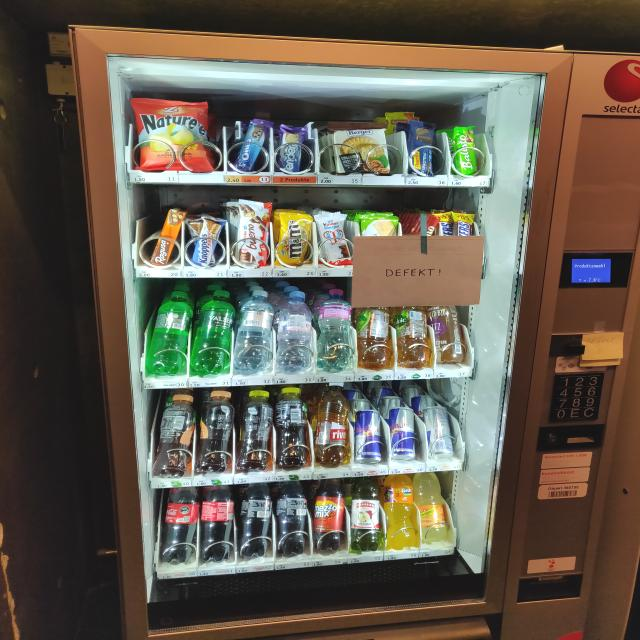balisto_muesli__37g__5000159418546: (451, 123, 484, 177)
berger_nusstoertli____: (328, 121, 389, 176)
bueno___43__4008400320328: (233, 198, 275, 268)
coke__flasche_50__54491472: (161, 487, 202, 562), (202, 485, 238, 561)
coke_zero_flasche_50__5449000131836: (237, 482, 277, 556), (277, 482, 309, 556)
evian___50__3068320353500: (278, 289, 318, 373)
fanta___50__40822938: (383, 473, 415, 549)
fuse_lemon__50__5449000235947: (235, 387, 276, 471), (275, 385, 312, 468)
fuse_peach__50__5449000236623: (153, 393, 196, 479), (195, 389, 236, 473)
knoppers_riegel____4035800488808: (190, 214, 227, 266)
mezzomix___50__54490840: (310, 477, 349, 551)
milka_oreo_riegel_37_1_7622210704740: (232, 119, 272, 173)
milka_tender____: (277, 120, 307, 174)
mnms_gelb__45__40111445: (274, 210, 315, 266)
powerbar_proteinplusschoko__55__4029679520028: (409, 122, 440, 179)
ragusa___50__76401121: (143, 208, 185, 270)
ramseier_jusdepomme__50__7610057001078: (353, 479, 381, 552)
redbull___33__90162909: (389, 408, 416, 459), (423, 407, 451, 455), (358, 411, 382, 463)
rivella_rot__50__7610097111072: (315, 384, 354, 467)
schweppes_citrus__50__: (415, 471, 447, 540)
valser_classic__50__76404160: (188, 290, 237, 373), (144, 294, 192, 375)
valser_still__50__7610335002575: (234, 290, 272, 372)
zweifel_salz__90__7610095005007: (132, 98, 217, 172)
